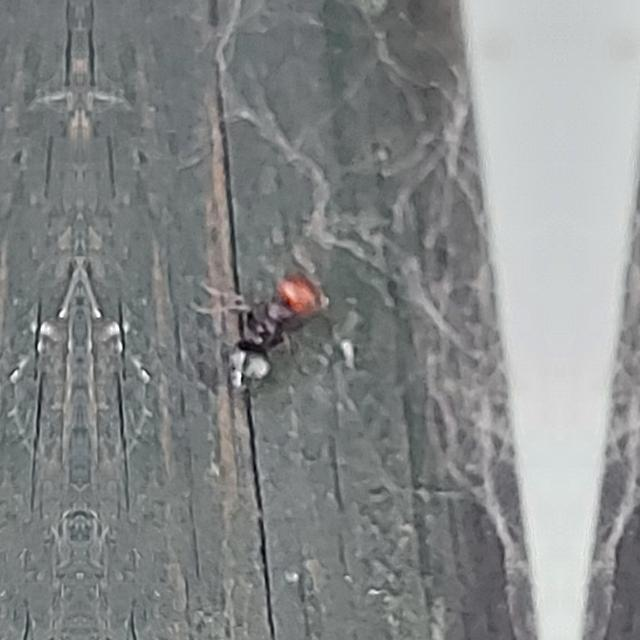Crematogaster: (210, 264, 326, 402)
